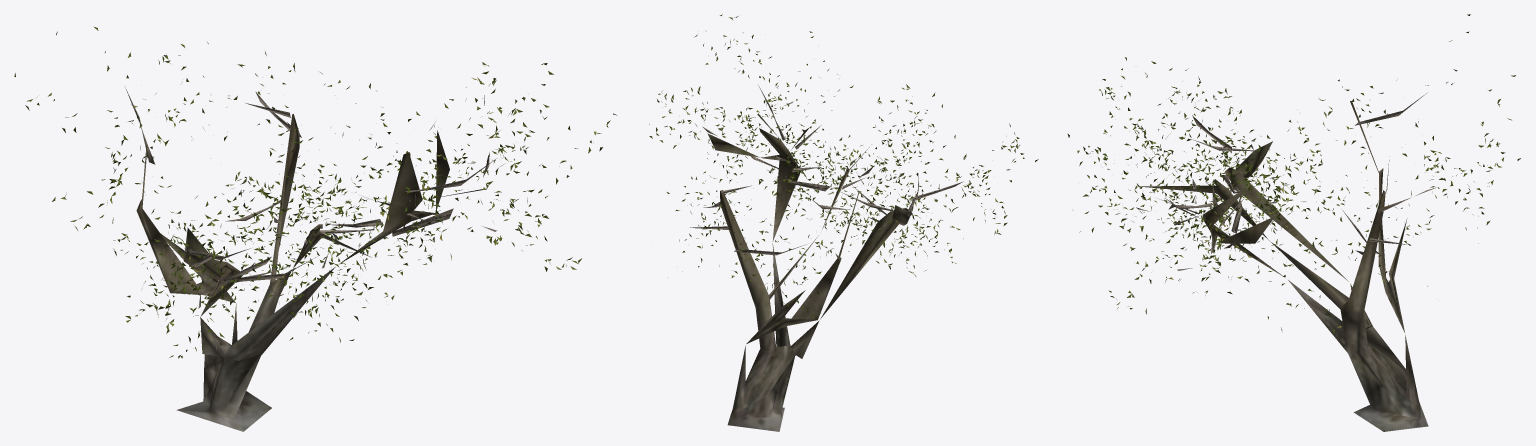
Rendered from island_tree_02_far.glb.
3 renders of one model, left to right at view 1: azimuth 30°, elevation 25°; view 2: azimuth 150°, elevation 25°; view 3: azimuth 270°, elevation 25°, orthographic. The views are drawn at different scales.
Visible parts, largest first — view 1: island_tree_02_LOD0; view 2: island_tree_02_LOD0; view 3: island_tree_02_LOD0.
Part boxes in pixels (x1,y1,x2,y2): island_tree_02_LOD0: (14,27,616,431); island_tree_02_LOD0: (649,14,1038,431); island_tree_02_LOD0: (1067,14,1520,431).
Size of the model in its own units: 3.77 by 3.33 by 3.97.
Materials: 3 (3 with a texture image).
